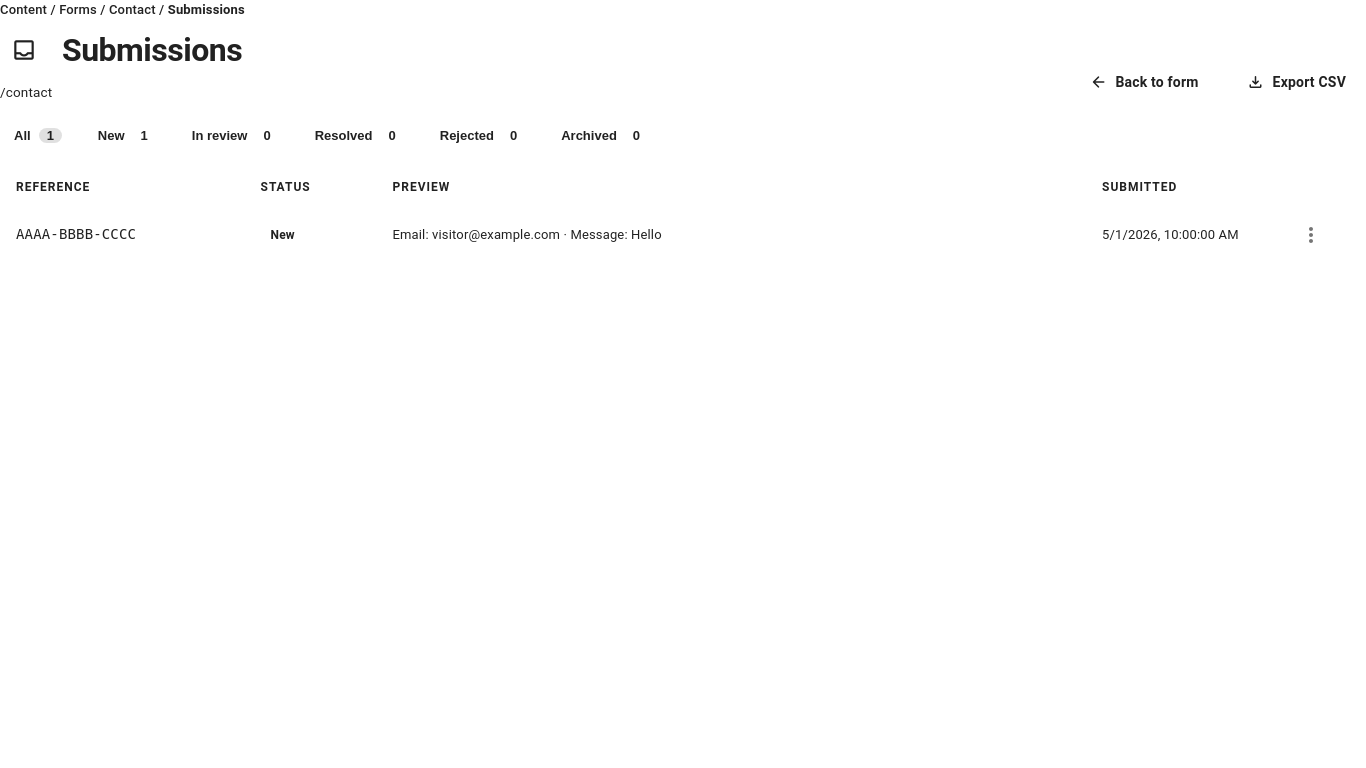
Test: FormSubmissionsPage › shows the actor display name (not the raw clerk id) in status history
Click the text "AAAA-BBBB-CCCC".
click(76, 234)  # box [16, 226, 136, 242]
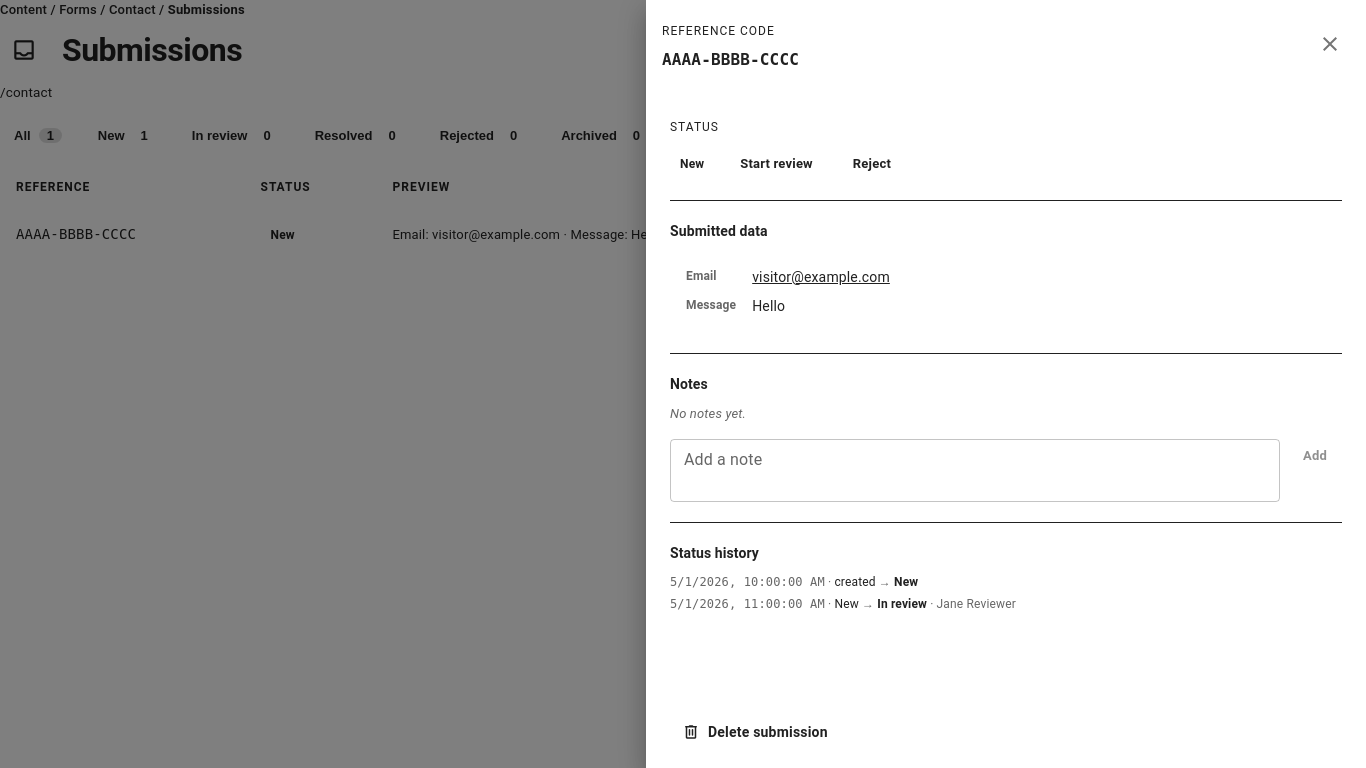
Expected: the text "5/1/2026, 11:00:00 AM · New → In review · Jane Reviewer" is shown, [670, 597, 1016, 611]
